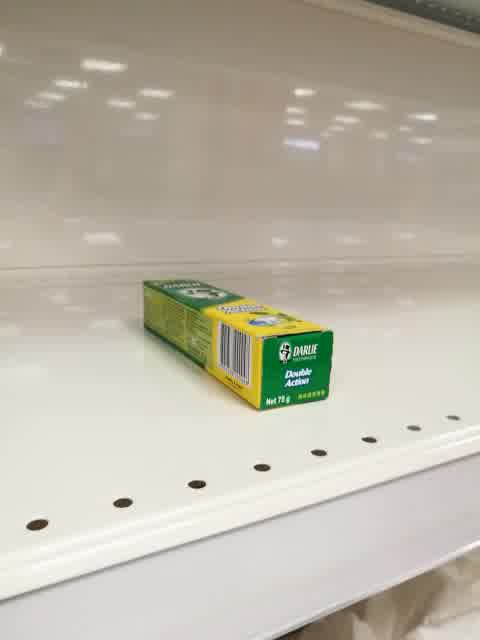toothpaste: (142, 277, 335, 413)
